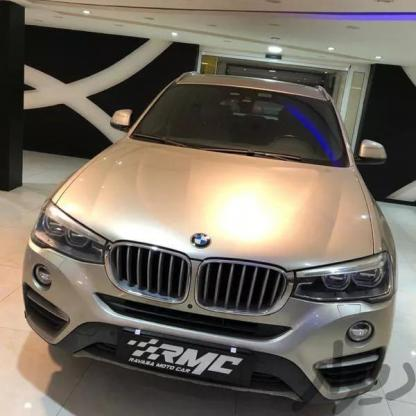Car: (14, 75, 397, 416)
